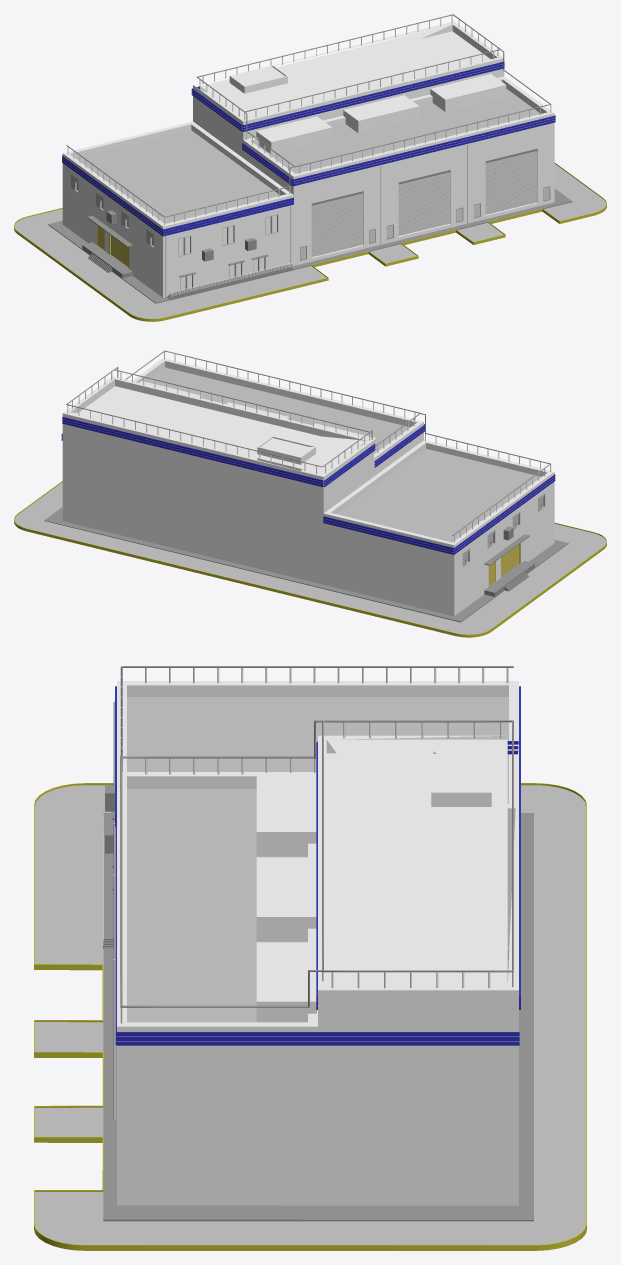
Rendered from station.glb.
3 renders of one model, top to bottom at view 1: azimuth 30°, elevation 25°; view 2: azimuth 150°, elevation 25°; view 3: azimuth 270°, elevation 25°, orthographic. The views are drawn at different scales.
Visible parts, largest first — view 1: Box096, Box097, Box098, Rectangle111, caodi1, object 386, Box025, Box015, Box005, Box275, Loft001, Box274 (+9 smaller); view 2: Box098, Box096, Rectangle111, Box097, object 386, caodi1, object 507, Box275, Loft001, Rectangle093, Rectangle094, Rectangle095 (+3 smaller); view 3: Box098, Box097, Rectangle111, Box096, object 386, caodi1, Box015, Box005, Box025, Box275, Loft001, Rectangle102 (+6 smaller).
Part boxes in pixels (bbox=[...]): Box096: bbox=[62, 121, 293, 297]; Box097: bbox=[243, 76, 554, 265]; Box098: bbox=[193, 21, 504, 157]; Rectangle111: bbox=[14, 164, 606, 318]; caodi1: bbox=[14, 162, 606, 321]; object 386: bbox=[48, 188, 572, 303]; Box025: bbox=[430, 74, 506, 111]; Box015: bbox=[343, 95, 419, 133]; Box005: bbox=[256, 116, 332, 154]; Box275: bbox=[229, 65, 287, 93]; Loft001: bbox=[196, 14, 500, 112]; Box274: bbox=[170, 265, 290, 299]; Box098: bbox=[62, 376, 373, 584]; Box096: bbox=[323, 440, 554, 616]; Rectangle111: bbox=[14, 482, 606, 634]; Box097: bbox=[133, 358, 423, 476]; object 386: bbox=[44, 507, 568, 622]; caodi1: bbox=[14, 481, 606, 637]; object 507: bbox=[139, 361, 416, 427]; Box275: bbox=[257, 436, 315, 471]; Loft001: bbox=[66, 369, 370, 467]; Rectangle093: bbox=[62, 419, 323, 484]; Rectangle094: bbox=[62, 417, 323, 482]; Rectangle095: bbox=[62, 421, 323, 487]; Box098: bbox=[318, 735, 518, 1205]; Box097: bbox=[117, 772, 317, 1205]; Rectangle111: bbox=[35, 785, 585, 1244]; Box096: bbox=[117, 681, 518, 950]; object 386: bbox=[103, 813, 533, 1221]; caodi1: bbox=[34, 783, 586, 1250]; Box015: bbox=[256, 857, 316, 941]; Box005: bbox=[256, 772, 316, 856]; Box025: bbox=[256, 942, 316, 1022]; Box275: bbox=[431, 750, 491, 806]; Loft001: bbox=[322, 720, 513, 972]; Rectangle102: bbox=[116, 1036, 519, 1040].
Bounding box in the file's own units: 214 × 51.49 × 108.
